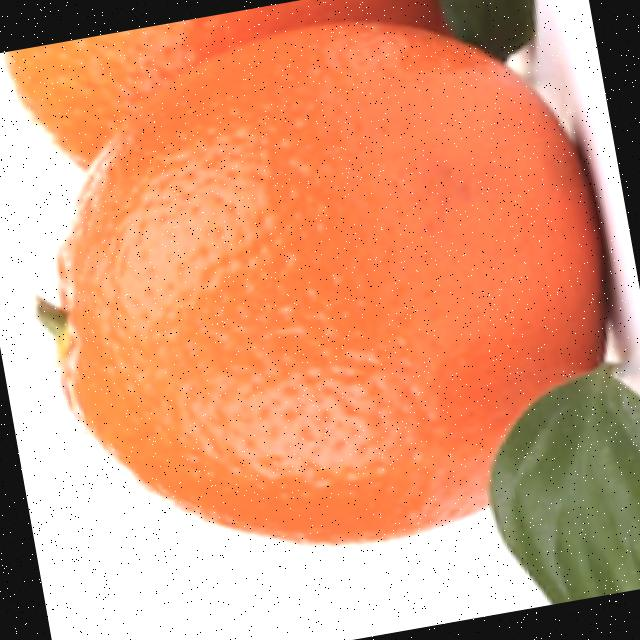orange: (14, 0, 640, 591)
